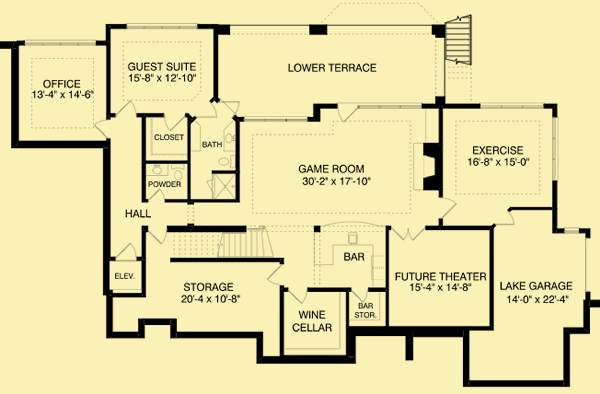door: (391, 224, 426, 242), (115, 100, 145, 117), (264, 262, 284, 285), (439, 195, 456, 221), (285, 285, 310, 302), (162, 112, 184, 131), (114, 241, 137, 259), (491, 209, 514, 227), (145, 227, 167, 245), (335, 104, 358, 121), (346, 285, 369, 302), (94, 117, 109, 137)
large_sink: (170, 163, 187, 180), (217, 154, 234, 169)
small_sink: (222, 122, 238, 152), (144, 164, 168, 177)
stairs: (168, 226, 274, 261), (445, 13, 474, 68)
windows: (125, 21, 199, 31), (477, 100, 544, 111), (551, 115, 561, 183), (23, 39, 99, 47)
